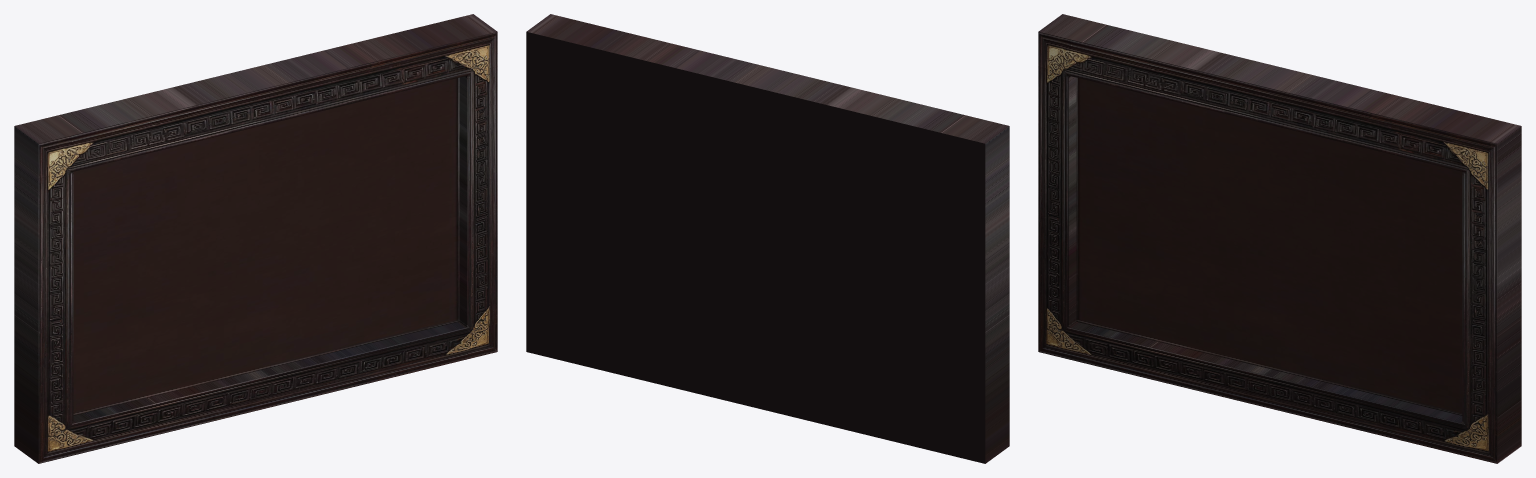
File: panel_help.glb
The picture shows the model from 3 angles, left to right: view 1: azimuth 30°, elevation 25°; view 2: azimuth 150°, elevation 25°; view 3: azimuth 330°, elevation 25°; orthographic projection.
Parts seen in each view (by area): view 1: help; view 2: help; view 3: help.
Boxes of the visible parts, x1,y1,x2,y2 form: help: (14, 14, 497, 463); help: (526, 14, 1009, 463); help: (1038, 14, 1521, 463).
Bounding box in the file's own units: 0.42 × 0.28 × 0.042.
Materials: 1 (1 with a texture image).
